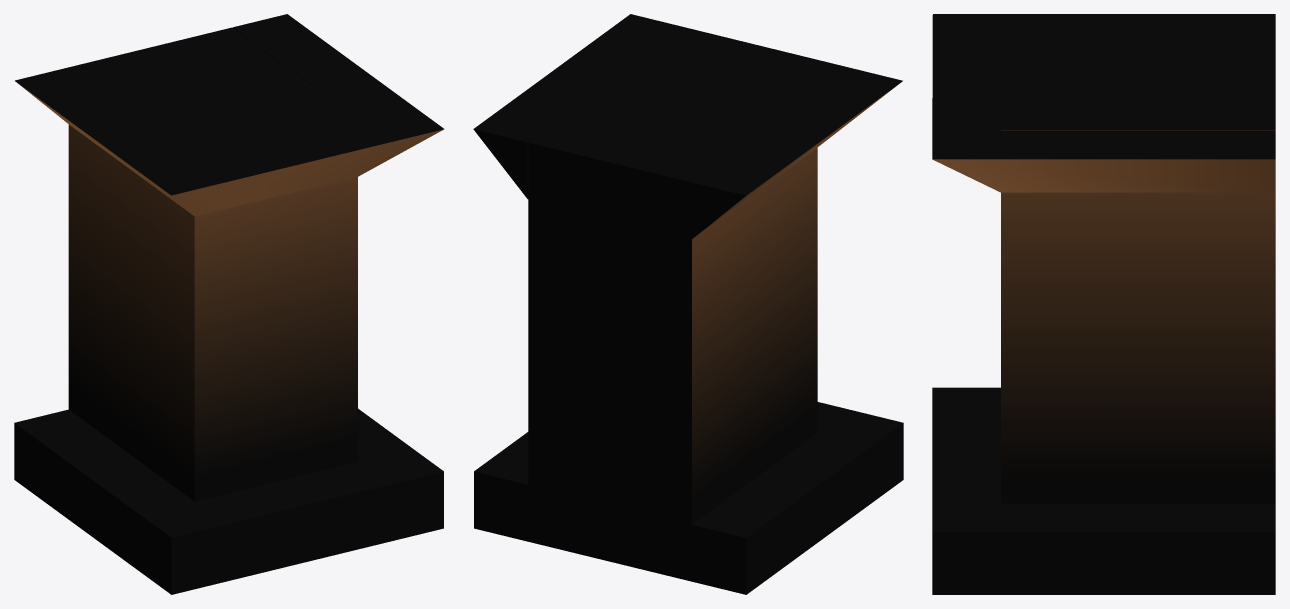
Rendered from hole_corner3.FBX.
3 views of the same model, side by side, from view 1: azimuth 30°, elevation 25°; view 2: azimuth 150°, elevation 25°; view 3: azimuth 270°, elevation 25° (orthographic). The views are drawn at different scales.
Parts seen in each view (by area): view 1: hole_corner3, hole_corner3_trim, hole_Box000, hole_Box001, hole_Box002; view 2: hole_corner3, hole_corner3_trim, hole_Box001, hole_Box002, hole_Box000; view 3: hole_corner3, hole_corner3_trim, hole_Box002, hole_Box000.
Boxes of the visible parts, x1,y1,x2,y2 form: hole_corner3: (68,27,357,501); hole_corner3_trim: (15,14,444,216); hole_Box000: (140,448,443,594); hole_Box001: (14,409,193,571); hole_Box002: (358,408,412,461); hole_corner3: (528,50,817,581); hole_corner3_trim: (473,14,902,238); hole_Box001: (692,432,872,594); hole_Box002: (474,432,528,541); hole_Box000: (817,402,903,502); hole_corner3: (1001,43,1275,503); hole_corner3_trim: (932,14,1275,192); hole_Box002: (1001,503,1275,594); hole_Box000: (932,387,1000,594).
Bounding box in the file's own units: 100 × 140 × 100.
